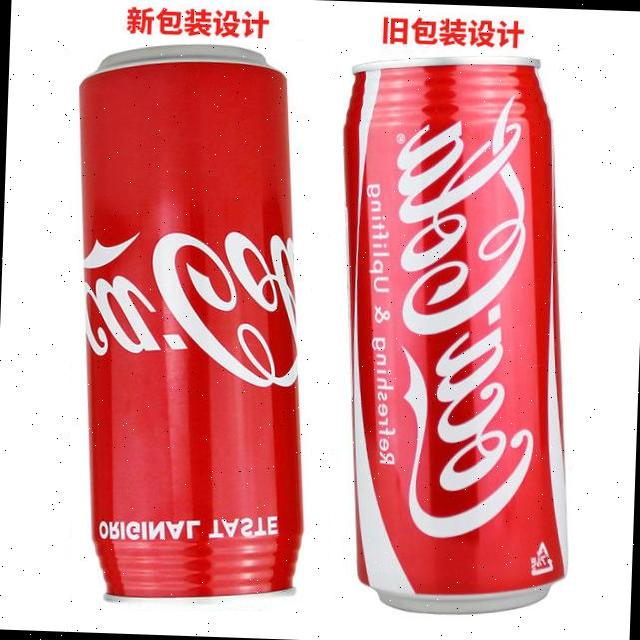coca-cola: (70, 39, 311, 611), (330, 50, 573, 616)
